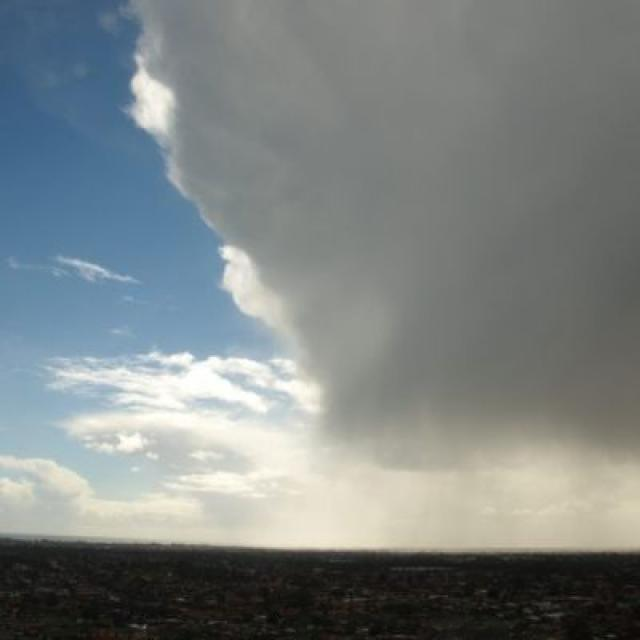Cb: (1, 47, 640, 488)
